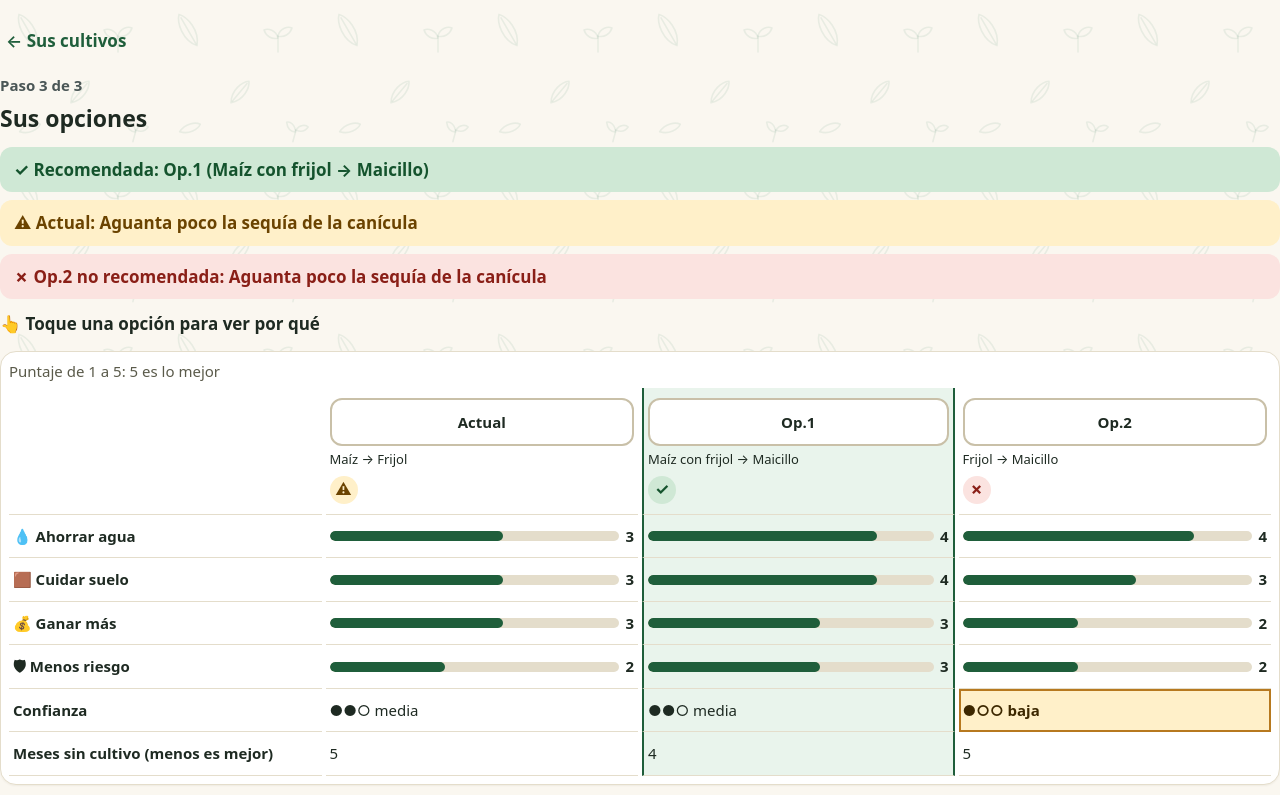
opening Op.1 shows its detail and 'Opción 1' goes back to the table
This screenshot has width=1280, height=795.
Click the button "Op.1".
click(798, 422)  # box x1=648 y1=398 x2=948 y2=446
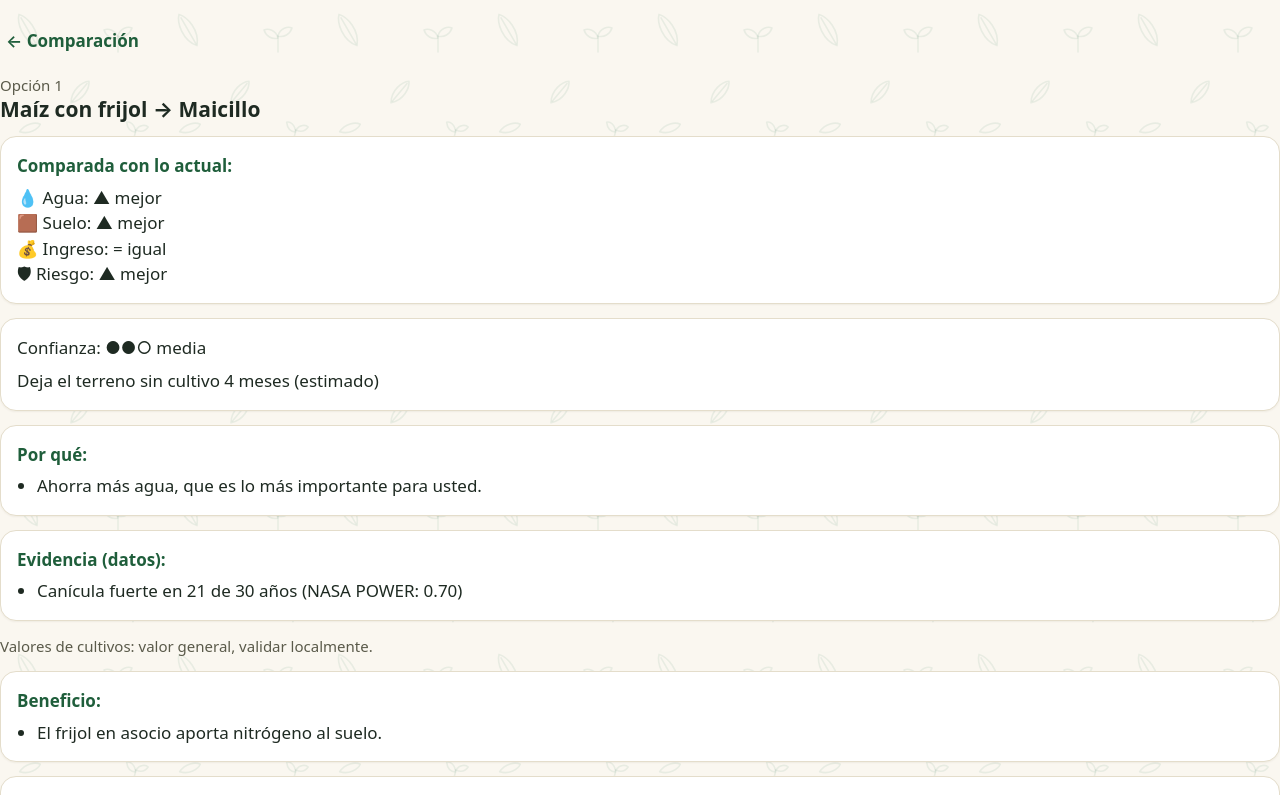
Expected: the heading "Maíz con frijol → Maicillo" is shown, x1=0 y1=95 x2=260 y2=123
Expected: the heading "Evidencia (datos):" is shown, x1=17 y1=548 x2=166 y2=571
Expected: the list item "Canícula fuerte en 21 de 30 años (NASA POWER: 0.70)" is shown, x1=37 y1=579 x2=462 y2=602
Click the button "← Comparación".
click(78, 41)  # box x1=0 y1=16 x2=157 y2=66
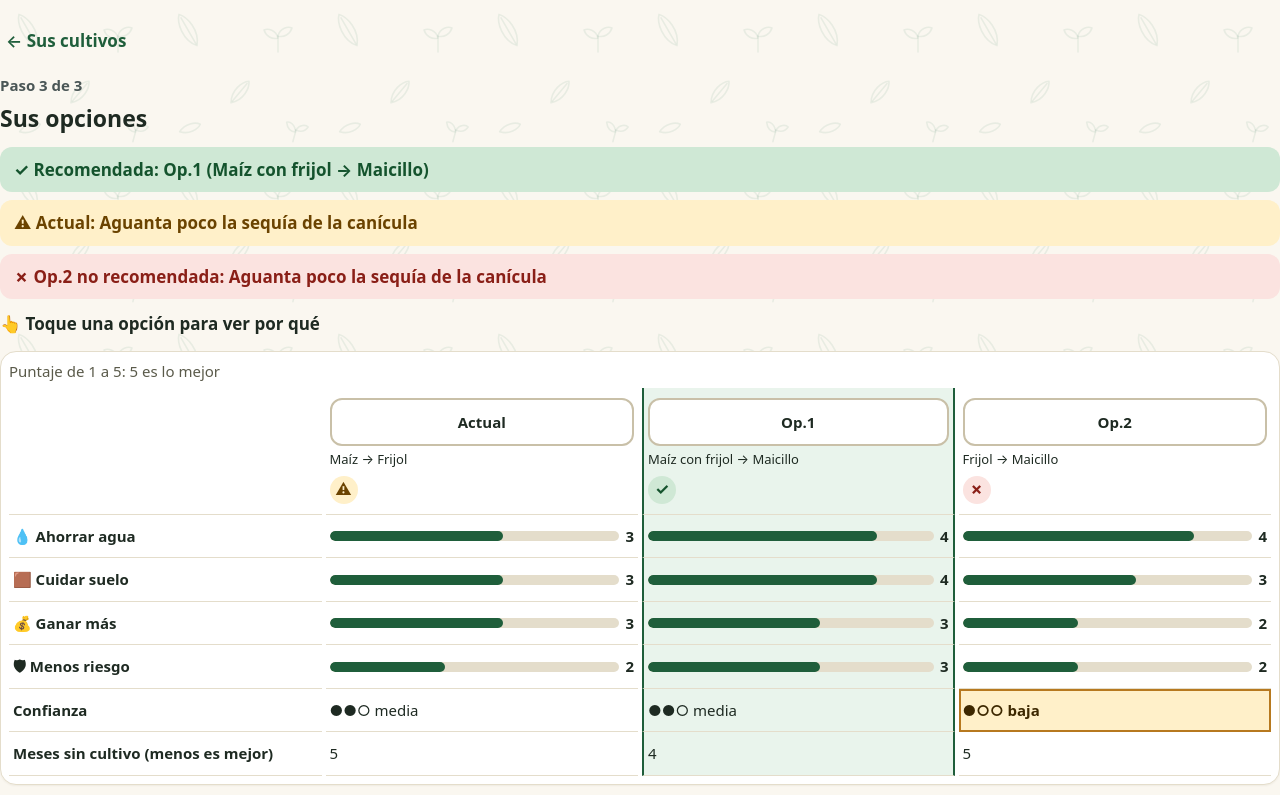
Expected: the button "Op.2" is shown, x1=962 y1=398 x2=1267 y2=446
